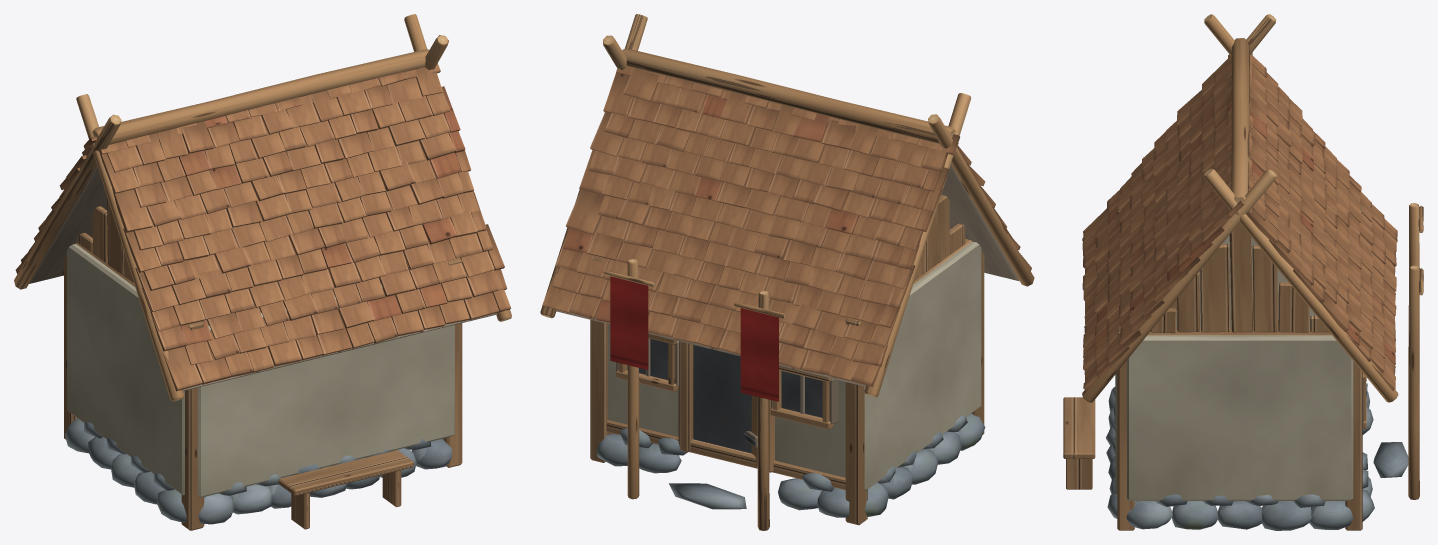
The model's file is bw_elders_lodge.fbx.
The picture shows the model from 3 angles, left to right: view 1: azimuth 30°, elevation 25°; view 2: azimuth 150°, elevation 25°; view 3: azimuth 270°, elevation 25°; orthographic projection. The views are drawn at different scales.
Parts seen in each view (by area): view 1: bw_elders_lodge; view 2: bw_elders_lodge; view 3: bw_elders_lodge.
Boxes of the visible parts, x1,y1,x2,y2 form: bw_elders_lodge: (14,14,511,530); bw_elders_lodge: (540,14,1034,530); bw_elders_lodge: (1063,14,1423,530).
Bounding box in the file's own units: 2.88 × 3.09 × 2.69.
